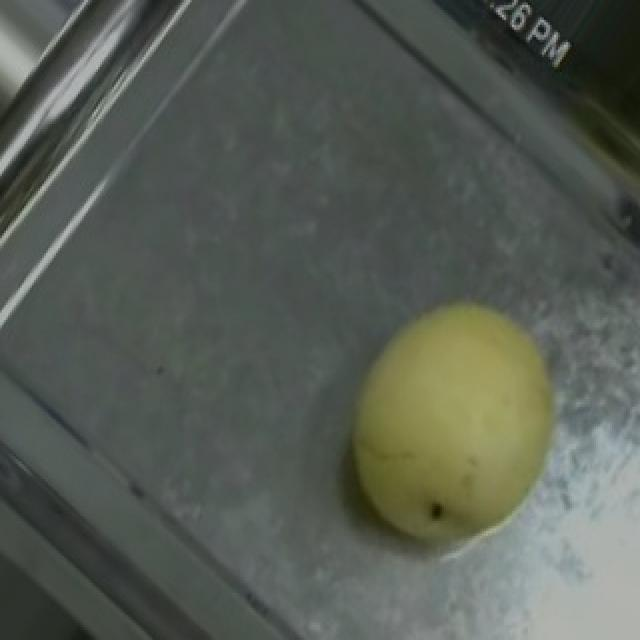Fruit: (298, 263, 588, 578)
